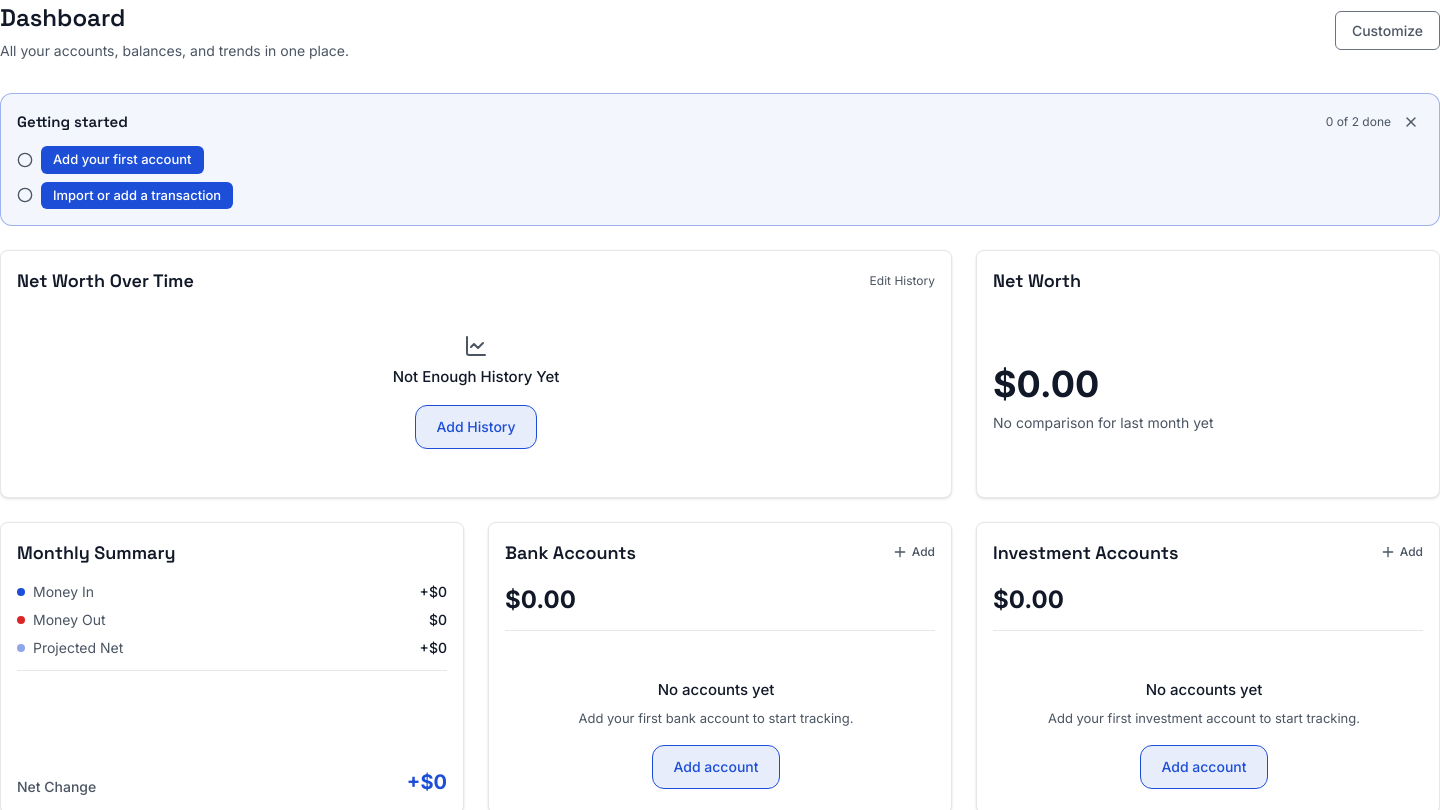
opens the deferred Customize panel from its visible header action
This screenshot has width=1440, height=810.
What coordinates should you click on to do the following:
click the button "Customize"
I would click on:
 (1387, 30)
Its box is [1335, 11, 1439, 50].
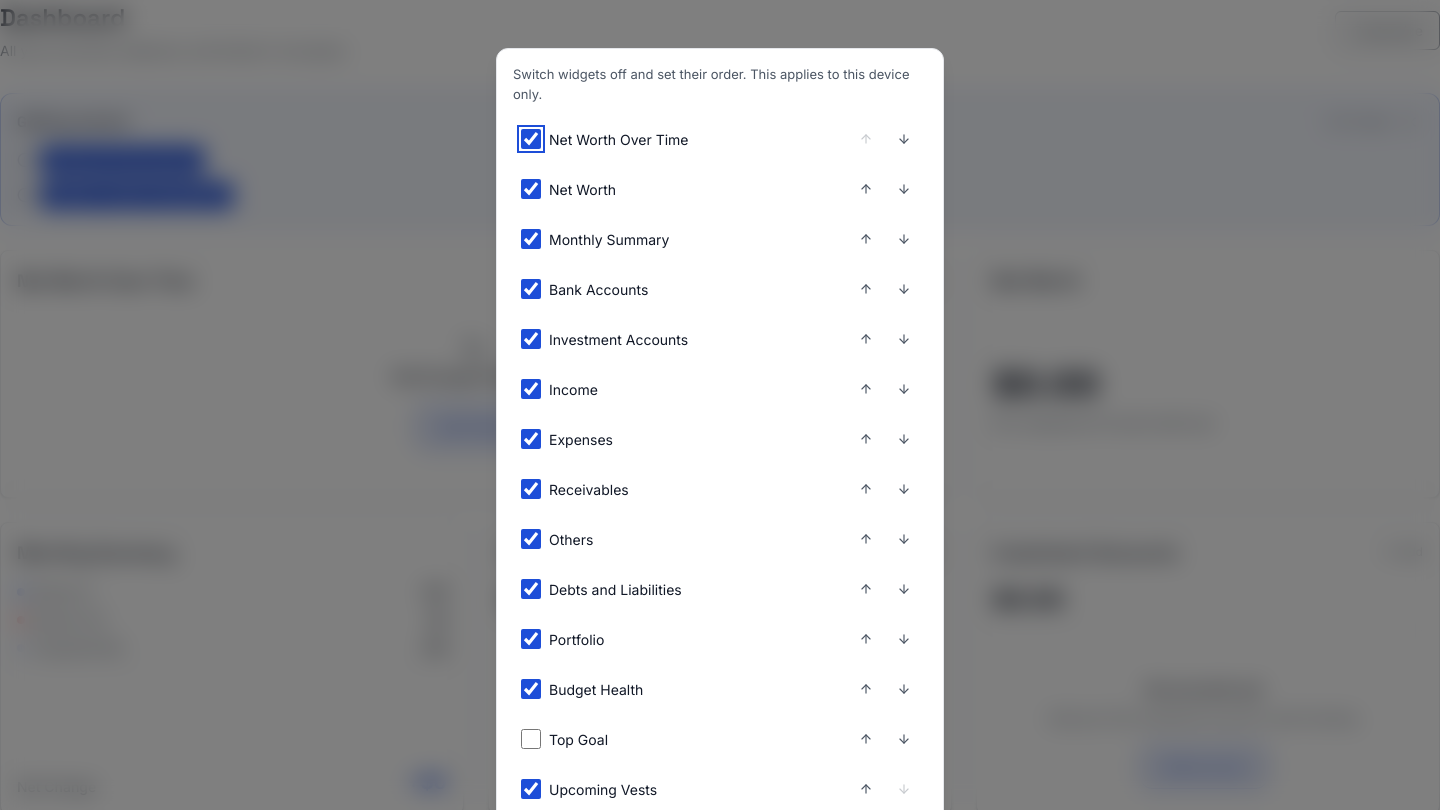
Check: the dialog named "Customize Dashboard" is shown, box [496, 48, 944, 809]
Check: the checkbox named "Show Net Worth Over Time" is shown, box [521, 129, 541, 149]
